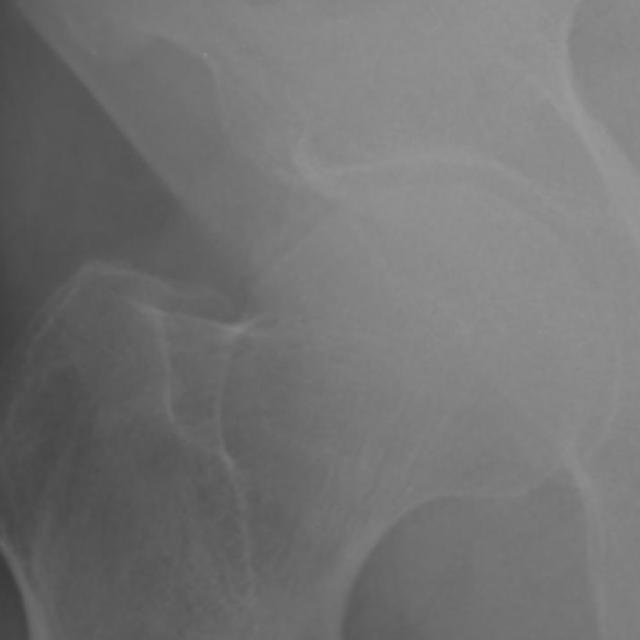Fitted_femural_head: (339, 180, 432, 339)
